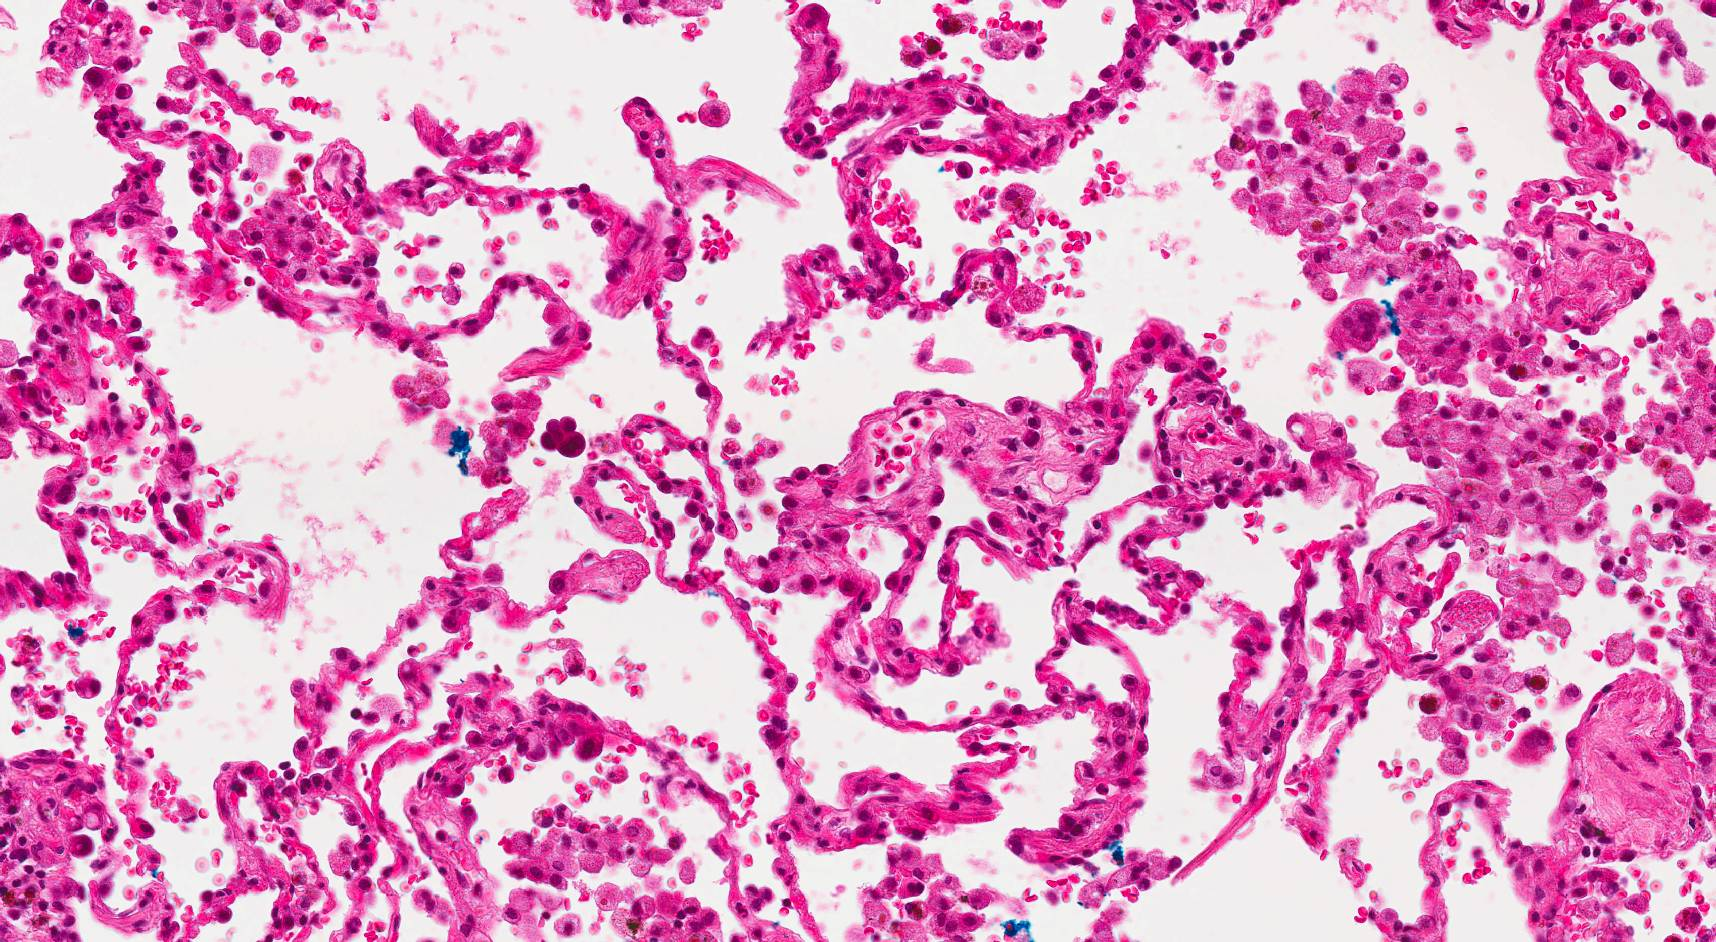stas: (540, 414, 587, 461)
